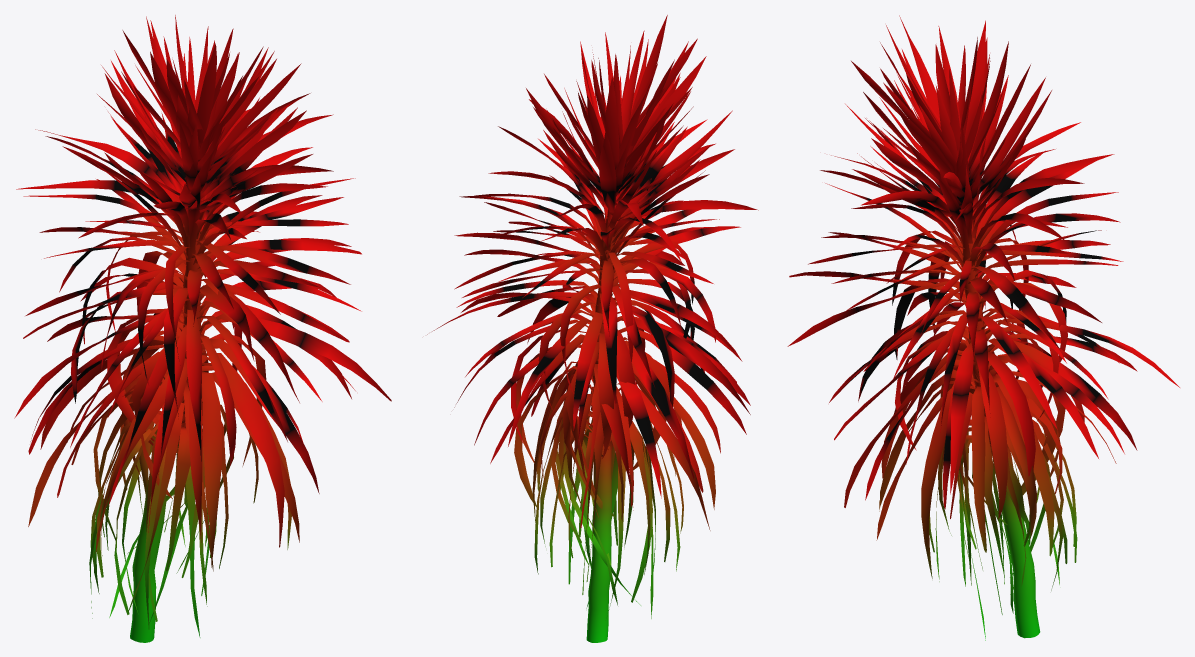
The model's file is Var3_LOD2.fbx.
The picture shows the model from 3 angles, left to right: view 1: azimuth 30°, elevation 25°; view 2: azimuth 150°, elevation 25°; view 3: azimuth 270°, elevation 25°; orthographic projection. The views are drawn at different scales.
Parts seen in each view (by area): view 1: _6wz1_Var3_LOD2; view 2: _6wz1_Var3_LOD2; view 3: _6wz1_Var3_LOD2.
Part boxes in pixels (bbox=[...]): _6wz1_Var3_LOD2: bbox=[14, 15, 391, 642]; _6wz1_Var3_LOD2: bbox=[427, 15, 758, 642]; _6wz1_Var3_LOD2: bbox=[787, 15, 1179, 640].
Size of the model in its own units: 107 by 200 by 117.
